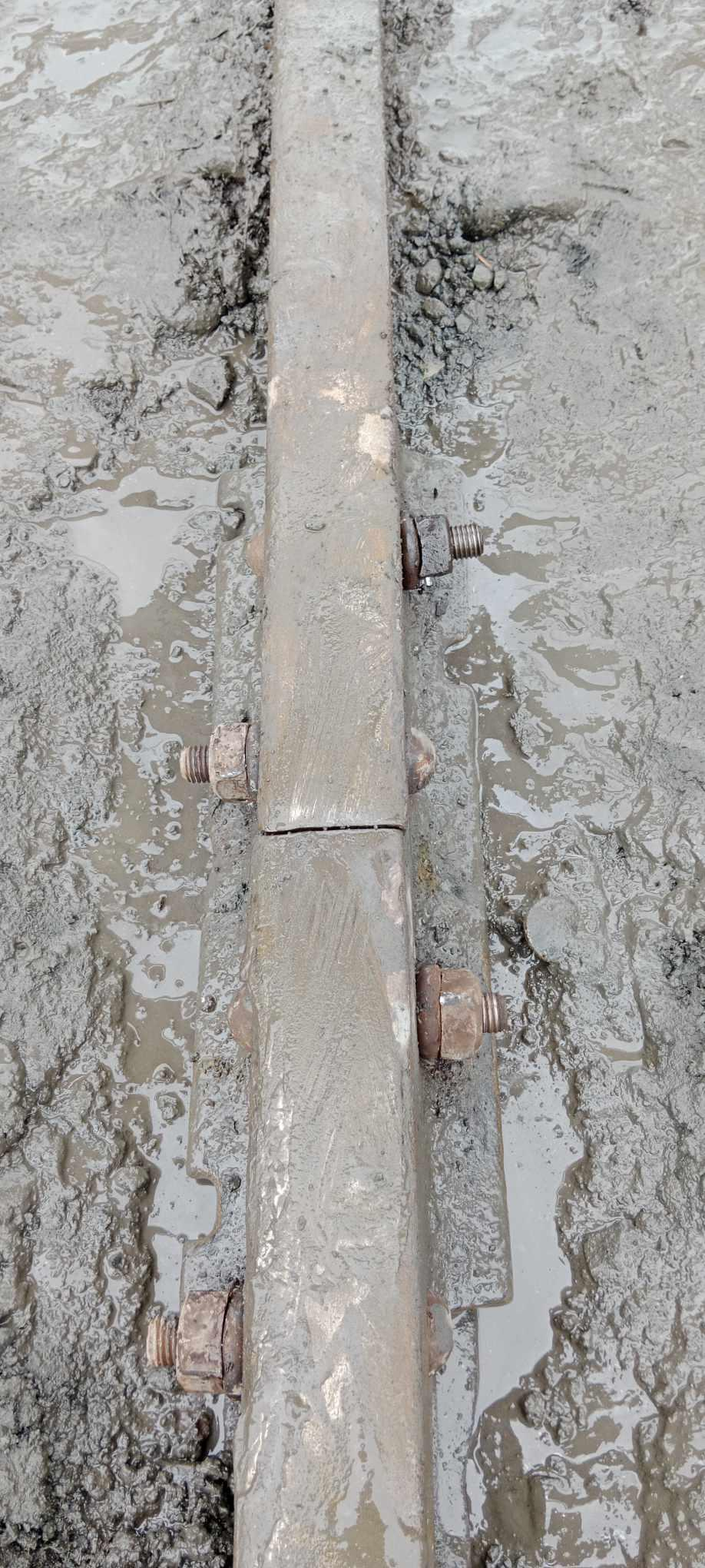railway-gap: (193, 707, 472, 956)
